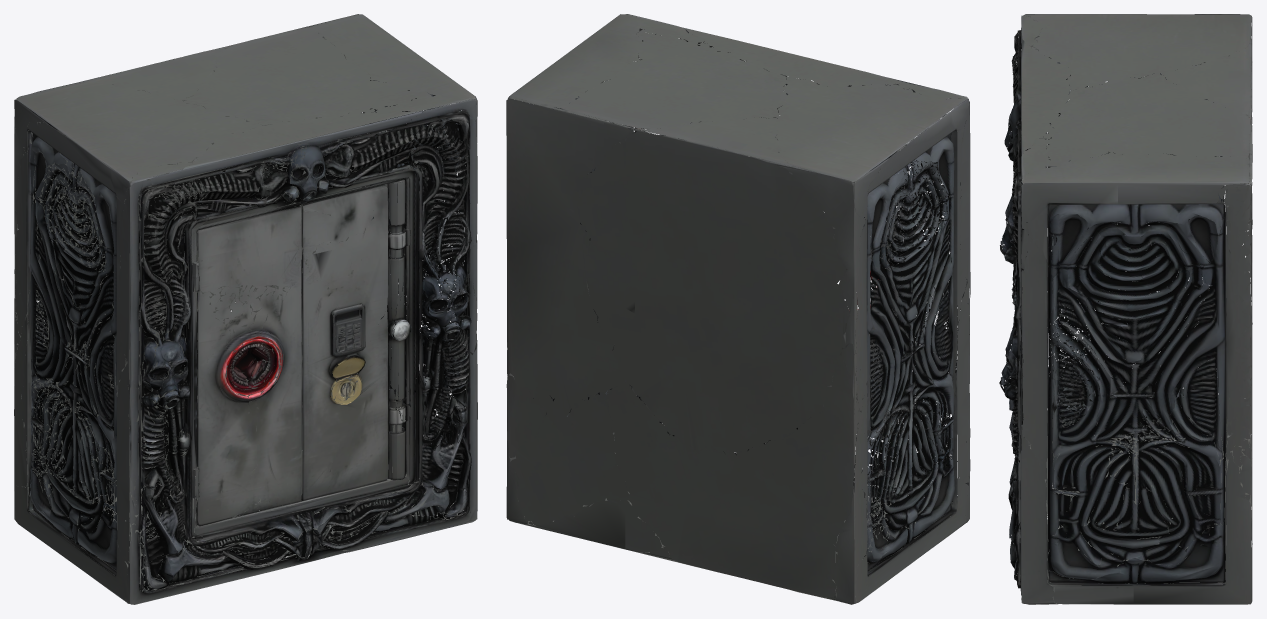
File: corp_biometric_wall_safe.glb
3 renders of one model, left to right at view 1: azimuth 30°, elevation 25°; view 2: azimuth 150°, elevation 25°; view 3: azimuth 270°, elevation 25°, orthographic.
Parts seen in each view (by area): view 1: node_0; view 2: node_0; view 3: node_0.
Boxes of the visible parts, x1,y1,x2,y2 form: node_0: (14,14,477,604); node_0: (506,14,970,604); node_0: (999,14,1252,604).
Size of the model in its own units: 0.7366 by 0.8494 by 0.4609.
Materials: 1 (1 with a texture image).
